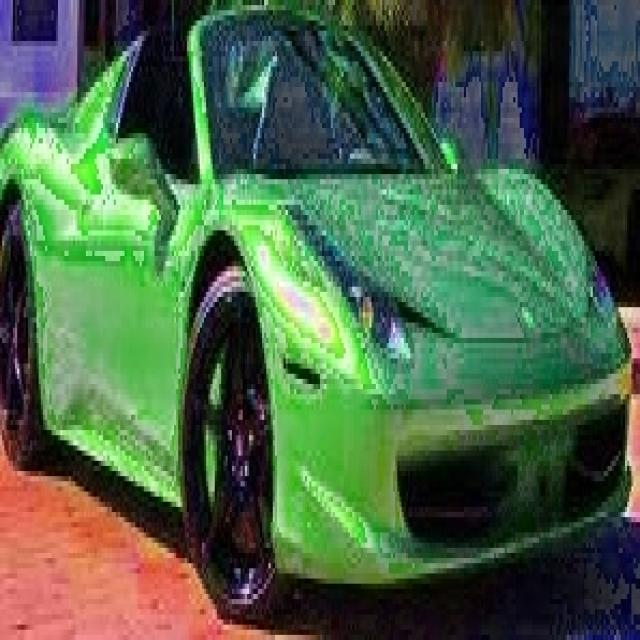green: (2, 3, 640, 586)
